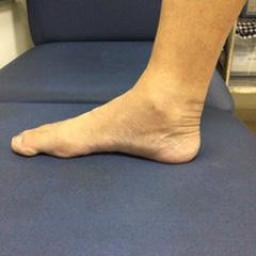Medial View -Right Foot-: (6, 56, 225, 178)
